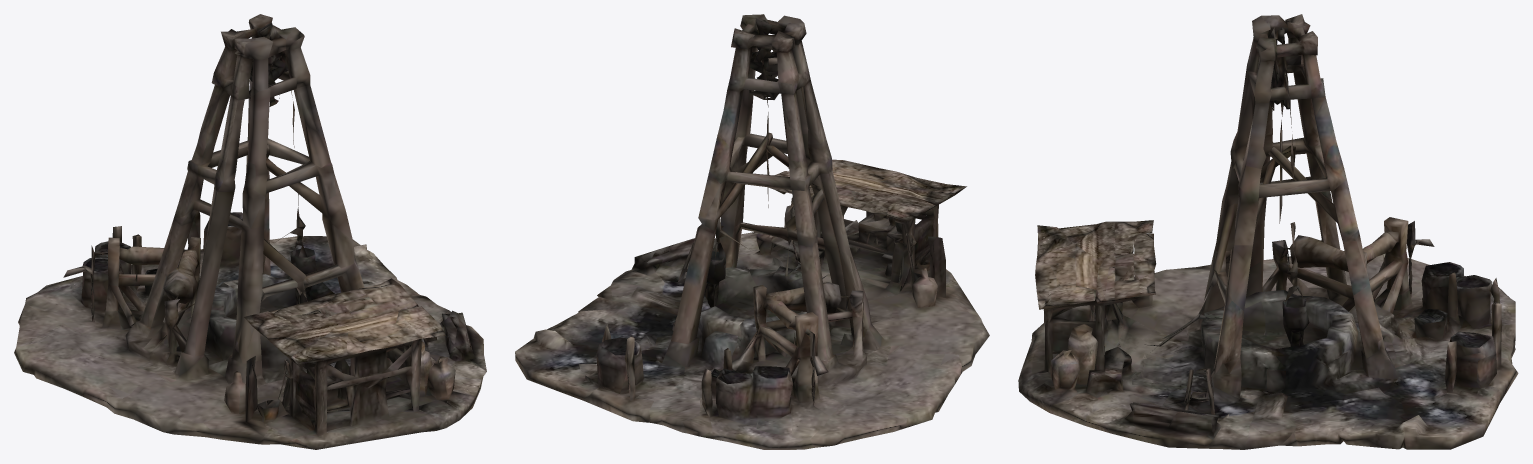
The model's file is oil_well_0.glb.
3 views of the same model, side by side, from view 1: azimuth 30°, elevation 25°; view 2: azimuth 150°, elevation 25°; view 3: azimuth 270°, elevation 25° (orthographic). The views are drawn at different scales.
Visible parts, largest first — view 1: tripo_node_f2880703-220d-4ee2-9635-848891718ba4; view 2: tripo_node_f2880703-220d-4ee2-9635-848891718ba4; view 3: tripo_node_f2880703-220d-4ee2-9635-848891718ba4.
Part boxes in pixels (x1,y1,x2,y2): tripo_node_f2880703-220d-4ee2-9635-848891718ba4: (14,14,486,449); tripo_node_f2880703-220d-4ee2-9635-848891718ba4: (515,14,989,449); tripo_node_f2880703-220d-4ee2-9635-848891718ba4: (1018,14,1518,449).
Size of the model in its own units: 0.8845 by 0.7388 by 0.9821.
1 material, 1 textured.
